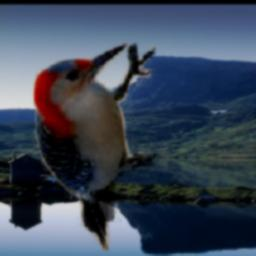Woodpecker: (34, 43, 156, 251)
